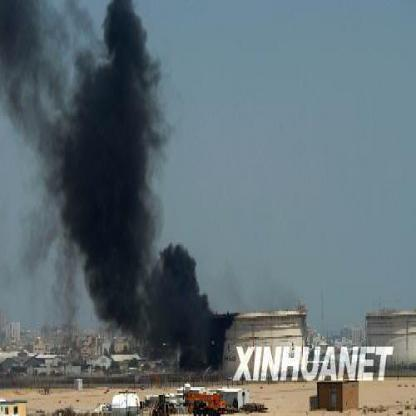smoke: (65, 95, 150, 200), (83, 203, 153, 316), (146, 247, 212, 350), (3, 6, 62, 84), (104, 10, 147, 90)
